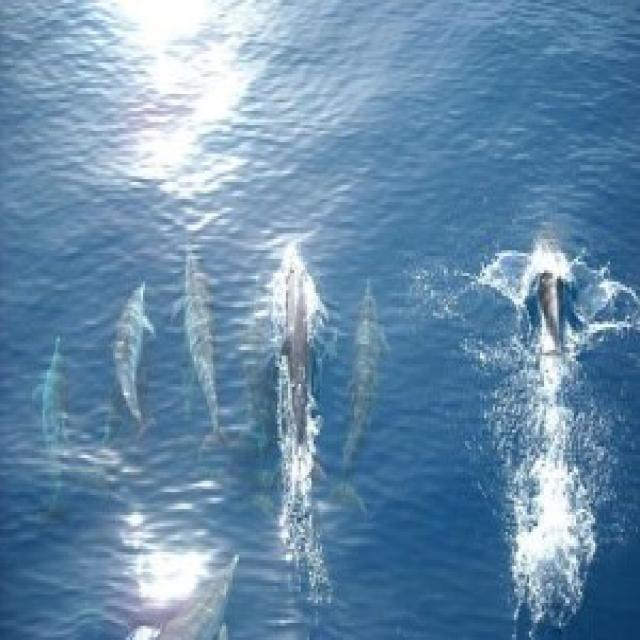Dolphin: (334, 273, 396, 537), (172, 247, 240, 464), (148, 552, 252, 640), (31, 340, 76, 520), (114, 280, 156, 434), (536, 271, 588, 362)
